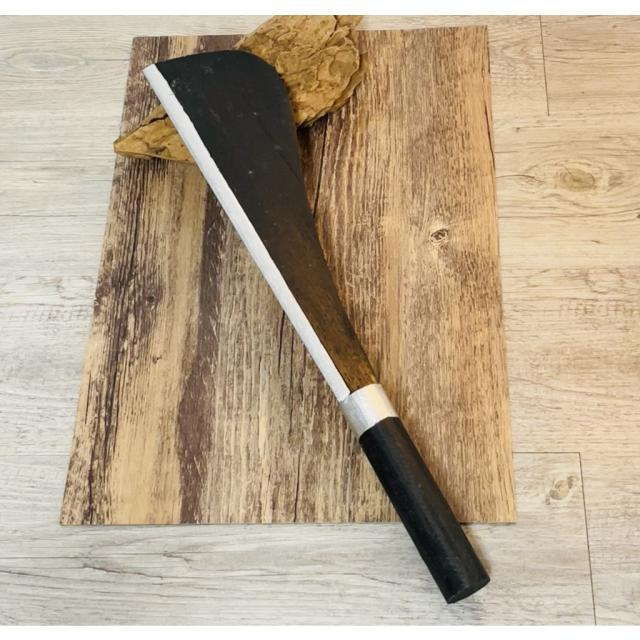eto: (130, 46, 496, 612)
